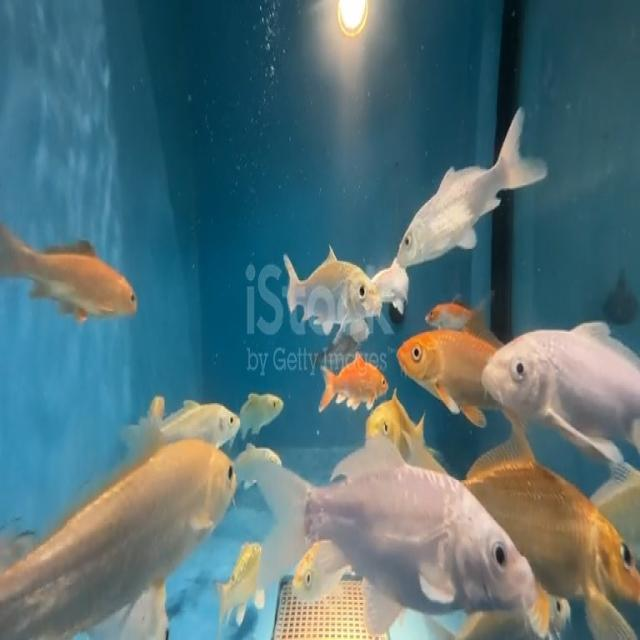fish: (242, 434, 538, 635), (0, 434, 244, 578), (479, 426, 638, 606), (394, 103, 552, 264), (476, 313, 640, 442), (0, 207, 140, 329), (280, 237, 382, 339), (388, 323, 490, 414), (158, 398, 243, 450), (316, 356, 389, 410), (362, 394, 422, 458), (288, 544, 333, 622), (223, 532, 263, 608), (240, 383, 288, 437), (420, 296, 488, 331)
